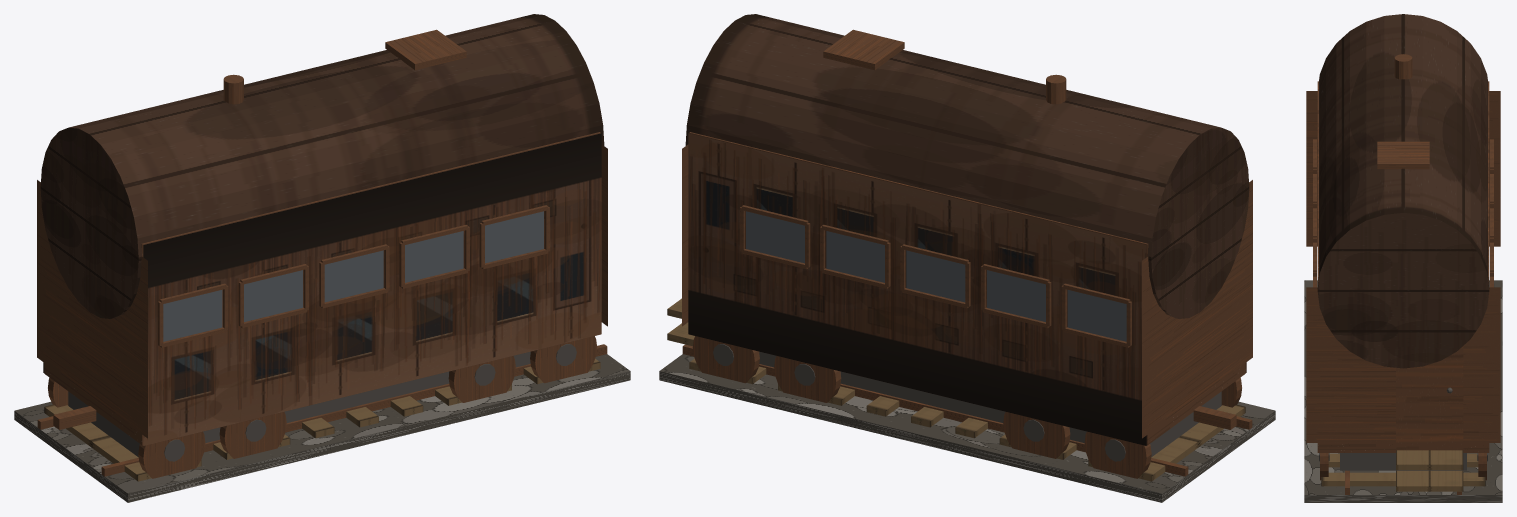
Rendered from duong-ray-toa-tau-bo-hoang.glb.
3 renders of one model, left to right at view 1: azimuth 30°, elevation 25°; view 2: azimuth 150°, elevation 25°; view 3: azimuth 270°, elevation 25°, orthographic. The views are drawn at different scales.
Parts seen in each view (by area): view 1: duong-ray-toa-tau-bo-hoang; view 2: duong-ray-toa-tau-bo-hoang; view 3: duong-ray-toa-tau-bo-hoang.
Boxes of the visible parts, x1,y1,x2,y2 form: duong-ray-toa-tau-bo-hoang: (14, 14, 630, 502); duong-ray-toa-tau-bo-hoang: (659, 14, 1275, 502); duong-ray-toa-tau-bo-hoang: (1304, 14, 1502, 502).
Size of the model in its own units: 7.2 by 4.43 by 2.66.
7 materials, 5 textured.
